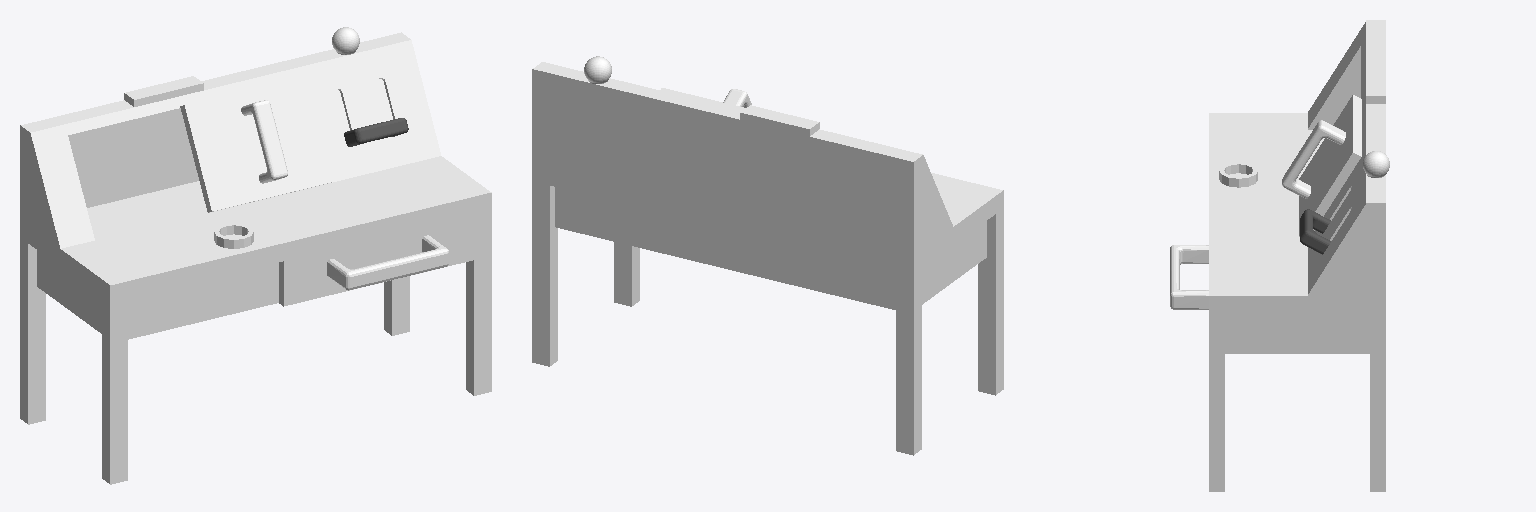
URDF robot description (playtable_8):
<?xml version="1.0" encoding="utf-8"?>
<robot
  name="playtable_8" concave="yes">
  <link
    name="base_link">
    <inertial>
      <origin
        xyz="-0.00874455174683536 0.501032855485917 -0.0450543406685957"
        rpy="0 0 0" />
      <mass
        value="0.0" />
        <!-- value="46.9509300649509" -->
      <inertia
        ixx="1.52184000058477"
        ixy="-0.254749727975985"
        ixz="0.308157438917355"
        iyy="6.45099220326934"
        iyz="0.279082713309664"
        izz="6.27233522074152" />
    </inertial>
    <visual>
      <origin
        xyz="0 0 0"
        rpy="0 0 0" />
      <geometry>
        <mesh
          filename="../meshes/base_link.obj" />
      </geometry>
      <material name="white">
       <color rgba="1 1 1 1"/>
     </material>
    </visual>
    <collision concave="yes">
      <origin
        xyz="0 0 0"
        rpy="0 0 0" />
      <geometry>
        <mesh
          filename="../meshes/base_link.obj" />
      </geometry>
    </collision>
  </link>
  <link
    name="button_link">
    <inertial>
      <origin
        xyz="2.77555756156289E-17 0.0149999999999999 -2.77555756156289E-17"
        rpy="0 0 0" />
      <mass
        value="0.153812376319756" />
      <inertia
        ixx="7.30608787518843E-05"
        ixy="-1.78342506783922E-37"
        ixz="0"
        iyy="0.000123049901055805"
        iyz="-3.74688824324604E-37"
        izz="7.30608787518843E-05" />
    </inertial>
    <visual>
      <origin
        xyz="0 0 0"
        rpy="0 0 0" />
      <geometry>
        <mesh
          filename="../meshes/button_link.STL" />
      </geometry>
      <material
        name="black">
        <color
          rgba="0.0 0.0 0.0 1" />
      </material>
    </visual>
    <collision>
      <origin
        xyz="0 0 0"
        rpy="0 0 0" />
      <geometry>
        <mesh
          filename="../meshes/button_link.STL" />
      </geometry>
    </collision>
  </link>
  <joint
    name="base__button"
    type="prismatic">
    <origin
      xyz="-0.15 -0.15 0.575"
      rpy="1.5707963267949 0 0" />
    <parent
      link="base_link" />
    <child
      link="button_link" />
    <axis
      xyz="0 -1 0" />
    <limit
      lower="0"
      upper="0.025"
      effort="0"
      velocity="0" />
  </joint>
  <link
    name="switch_link">
    <inertial>
      <origin
        xyz="0 0.0501954388893268 -0.01"
        rpy="0 0 0" />
      <mass
        value="0.238786703751891" />
      <inertia
        ixx="0.000149903694690068"
        ixy="2.96995011323846E-20"
        ixz="5.67423673137366E-21"
        iyy="0.000673716537106872"
        iyz="3.52365706057789E-19"
        izz="0.000767827685519096" />
    </inertial>
    <visual>
      <origin
        xyz="0 0 0"
        rpy="0 0 0" />
      <geometry>
        <mesh
          filename="../meshes/switch_link.obj" />
      </geometry>
      <material
        name="gray">
        <color
          rgba="0.4 0.4 0.4 1" />
      </material>
    </visual>
    <collision>
      <origin
        xyz="0 0 0"
        rpy="0 0 0" />
      <geometry>
        <mesh
          filename="../meshes/switch_link_vhacd2.obj" />
      </geometry>
    </collision>
  </link>
  <joint
    name="base__switch"
    type="prismatic">
    <origin
      xyz="0.375 0.0761602540378436 0.618612159321677"
      rpy="2.61799387799149 0 0" />
    <parent
      link="base_link" />
    <child
      link="switch_link" />
    <axis
      xyz="0 0 -1" />
    <limit
      lower="0"
      upper="0.11"
      effort="0"
      velocity="0" />
  </joint>
  <link
    name="slide_link">
    <inertial>
      <origin
        xyz="-0.175 -1.11022302462516E-16 0.0204147302446787"
        rpy="0 0 0" />
      <mass
        value="1.54349139995684" />
      <inertia
        ixx="0.0102407243866408"
        ixy="-3.58276094546118E-19"
        ixz="-1.08016584477762E-20"
        iyy="0.0146074020666347"
        iyz="-2.34187669256869E-17"
        izz="0.0232176606837711" />
    </inertial>
    <visual>
      <origin
        xyz="0 0 0"
        rpy="0 0 0" />
      <geometry>
        <mesh
          filename="../meshes/slide_link.obj" />
      </geometry>
      <material name="white">
       <color rgba="1 1 1 1"/>
     </material>
    </visual>
    <collision>
      <origin
        xyz="0 0 0"
        rpy="0 0 0" />
      <geometry>
        <mesh
          filename="../meshes/slide_link_vhacd2.obj" />
      </geometry>
    </collision>
  </link>
  <joint
    name="base__slide"
    type="prismatic">
    <origin
      xyz="-0.125 0.09375 0.66908"
      rpy="1.04719755119659 0 0" />
    <parent
      link="base_link" />
    <child
      link="slide_link" />
    <axis
      xyz="-1 0 0" />
    <limit
      lower="0"
      upper="0.35"
      effort="0"
      velocity="0" />
  </joint>
  <link
    name="drawer_link">
    <inertial>
      <origin
        xyz="5.55111512312578E-17 0.033198054271063 0.0988554042464424"
        rpy="0 0 0" />
      <mass
        value="4.23128077824699" />
      <inertia
        ixx="0.0592167745250431"
        ixy="-2.00073458850934E-18"
        ixz="-2.91103489387021E-18"
        iyy="0.16375258619816"
        iyz="-4.16732706455145E-05"
        izz="0.11199026473436" />
    </inertial>
    <visual>
      <origin
        xyz="0 0 0"
        rpy="0 0 0" />
      <geometry>
        <mesh
          filename="../meshes/drawer_link.obj" />
      </geometry>
      <material name="white">
       <color rgba="1 1 1 1"/>
     </material>
    </visual>
    <collision>
      <origin
        xyz="0 0 0"
        rpy="0 0 0" />
      <geometry>
        <mesh
          filename="../meshes/drawer_link_vhacd2.obj" />
      </geometry>
    </collision>
  </link>
  <joint
    name="base__drawer"
    type="prismatic">
    <origin
      xyz="0.225 0 0.4"
      rpy="1.5707963267949 0 0" />
    <parent
      link="base_link" />
    <child
      link="drawer_link" />
    <axis
      xyz="0 0 1" />
    <limit
      lower="0"
      upper="0.275"
      effort="0"
      velocity="0" />
  </joint>
  <link
    name="led_link">
    <inertial>
      <origin
        xyz="0 0.01 0"
        rpy="0 0 0" />
      <mass
        value="0.204" />
      <inertia
        ixx="4.93E-05"
        ixy="-4.05952398432885E-21"
        ixz="2.7554998213719E-21"
        iyy="0.0007225"
        iyz="2.15993401549847E-21"
        izz="0.0006868" />
    </inertial>
    <visual>
      <origin
        xyz="0 0 0"
        rpy="0 0 0" />
      <geometry>
        <mesh
          filename="../meshes/led_link.STL" />
      </geometry>
      <material
        name="white">
        <color
          rgba="1 1 1 1" />
      </material>
    </visual>
    <collision>
      <origin
        xyz="0 0 0"
        rpy="0 0 0" />
      <geometry>
        <mesh
          filename="../meshes/led_link.STL" />
      </geometry>
    </collision>
  </link>
  <joint
    name="base__led"
    type="fixed">
    <origin
      xyz="-0.15 0.2 0.809807621135331"
      rpy="1.5707963267949 0 0" />
    <parent
      link="base_link" />
    <child
      link="led_link" />
    <axis
      xyz="0 0 0" />
    <limit
      lower="0"
      upper="0"
      effort="0"
      velocity="0" />
  </joint>
  <link
    name="light_link">
    <inertial>
      <origin
        xyz="-5.55111512312578E-17 0.0280266379242365 -0.035"
        rpy="0 0 0" />
      <mass
        value="0.173918312098126" />
      <inertia
        ixx="8.23031895831843E-05"
        ixy="1.89675370717113E-21"
        ixz="4.04382946355204E-38"
        iyy="8.738048875184E-05"
        iyz="8.02658189462508E-38"
        izz="8.23031895831843E-05" />
    </inertial>
    <visual>
      <origin
        xyz="0 0 0"
        rpy="0 0 0" />
      <geometry>
        <mesh
          filename="../meshes/light_link.STL" />
      </geometry>
      <material
        name="white">
        <color
          rgba="1 1 1 1" />
      </material>
    </visual>
    <collision>
      <origin
        xyz="0 0 0"
        rpy="0 0 0" />
      <geometry>
        <mesh
          filename="../meshes/light_link.STL" />
      </geometry>
    </collision>
  </link>
  <joint
    name="base__light"
    type="fixed">
    <origin
      xyz="0.375 0.165 0.80981"
      rpy="1.5708 0 0" />
    <parent
      link="base_link" />
    <child
      link="light_link" />
    <axis
      xyz="0 0 0" />
  </joint>
  <link
    name="plank_link">
    <inertial>
      <origin
        xyz="5.55111512312578E-17 0.0125 0"
        rpy="0 0 0" />
      <mass
        value="2.84375" />
      <inertia
        ixx="0.00740559895833334"
        ixy="9.9836950049708E-20"
        ixz="8.52905709021932E-19"
        iyy="0.107381184895833"
        iyz="1.88079096131566E-34"
        izz="0.100271809895833" />
    </inertial>
    <visual>
      <origin
        xyz="0 0 0"
        rpy="0 0 0" />
      <geometry>
        <mesh
          filename="../meshes/plank_link.obj" />
      </geometry>
      <material name="white">
       <color rgba="1 1 1 1"/>
     </material>
    </visual>
    <collision>
      <origin
        xyz="0 0 0"
        rpy="0 0 0" />
      <geometry>
        <mesh
          filename="../meshes/plank_link.obj" />
      </geometry>
    </collision>
  </link>
  <joint
    name="base__plank"
    type="fixed">
    <origin
      xyz="-0.125 0.1125 0.525"
      rpy="1.5708 0 0" />
    <parent
      link="base_link" />
    <child
      link="plank_link" />
    <axis
      xyz="0 0 0" />
  </joint>
</robot>

--- Facts derived from the render (not from the file) ---
Views: 3 orthographic renders of the robot side by side, from view 1: azimuth 30°, elevation 25°; view 2: azimuth 150°, elevation 25°; view 3: azimuth 270°, elevation 25°.
Model playtable_8 with 8 links and 7 joints (4 prismatic, 3 fixed), rooted at base_link, posed every joint at zero.
Links seen in each view (by area): view 1: base_link, slide_link, drawer_link, plank_link, led_link, switch_link, light_link; view 2: base_link, led_link, slide_link, light_link; view 3: base_link, slide_link, drawer_link, switch_link, led_link, light_link.
Boxes of the visible links, x1,y1,x2,y2 form: base_link: (20, 32, 491, 484); slide_link: (180, 76, 332, 212); drawer_link: (279, 215, 473, 306); plank_link: (87, 181, 207, 239); led_link: (124, 76, 203, 106); switch_link: (344, 118, 408, 146); light_link: (332, 27, 359, 54); base_link: (532, 62, 1003, 455); led_link: (740, 105, 819, 136); slide_link: (660, 88, 751, 110); light_link: (584, 56, 611, 83); base_link: (1209, 20, 1385, 491); slide_link: (1282, 95, 1361, 236); drawer_link: (1170, 245, 1208, 309); switch_link: (1300, 209, 1330, 254); led_link: (1366, 63, 1385, 103); light_link: (1363, 151, 1389, 177).
Bounding box of the posed robot: 1.1 × 0.5599 × 0.8718 m (x, y, z).
Meshes: 8 distinct files referenced, 7 mesh visuals loaded (2 binary STL, 5 OBJ); not drawn: 1 (reference not matched to a file when rendering).
